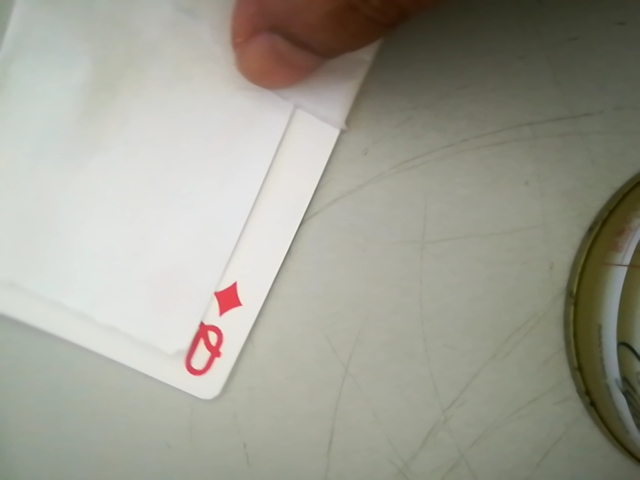fk q: (177, 277, 252, 388)
